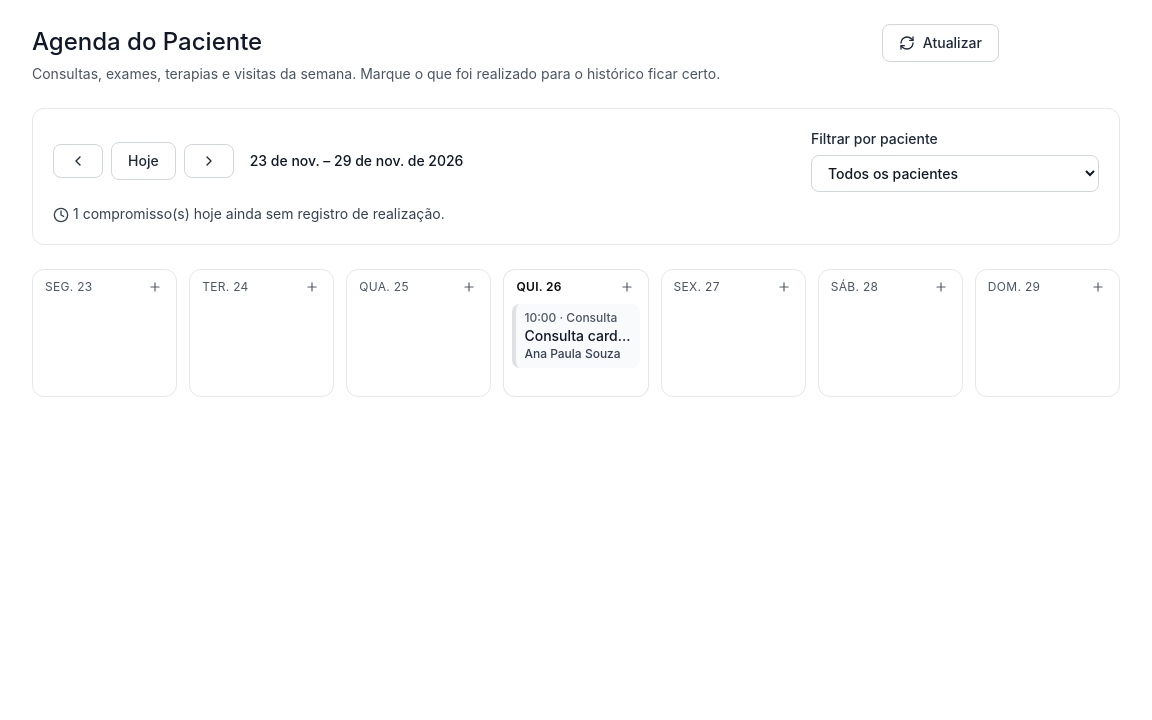
Agenda do paciente › cancelar um compromisso: fecha a janela, avisa e busca a agenda de novo
The image size is (1152, 720).
Step 1. Click the button "10:00 · Consulta Consulta cardiologia Ana Paula Souza" → (576, 336), box x1=512 y1=304 x2=640 y2=368
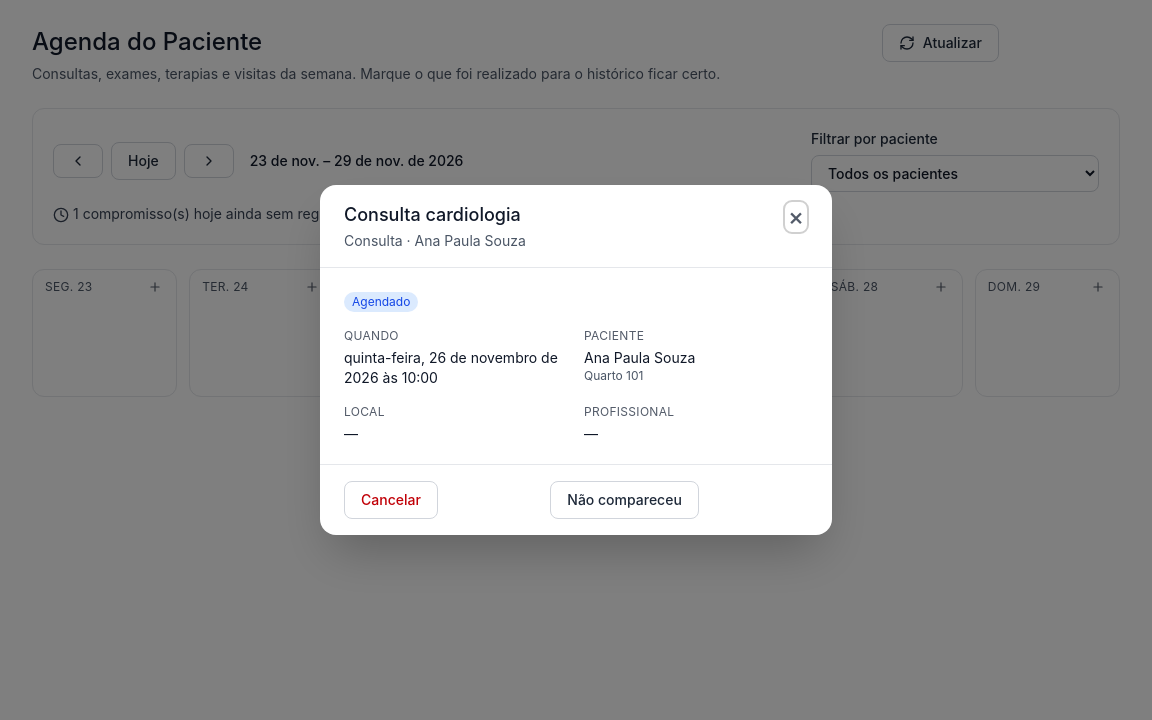
Step 2. Click the button "Cancelar" → (391, 500), box x1=344 y1=481 x2=438 y2=519
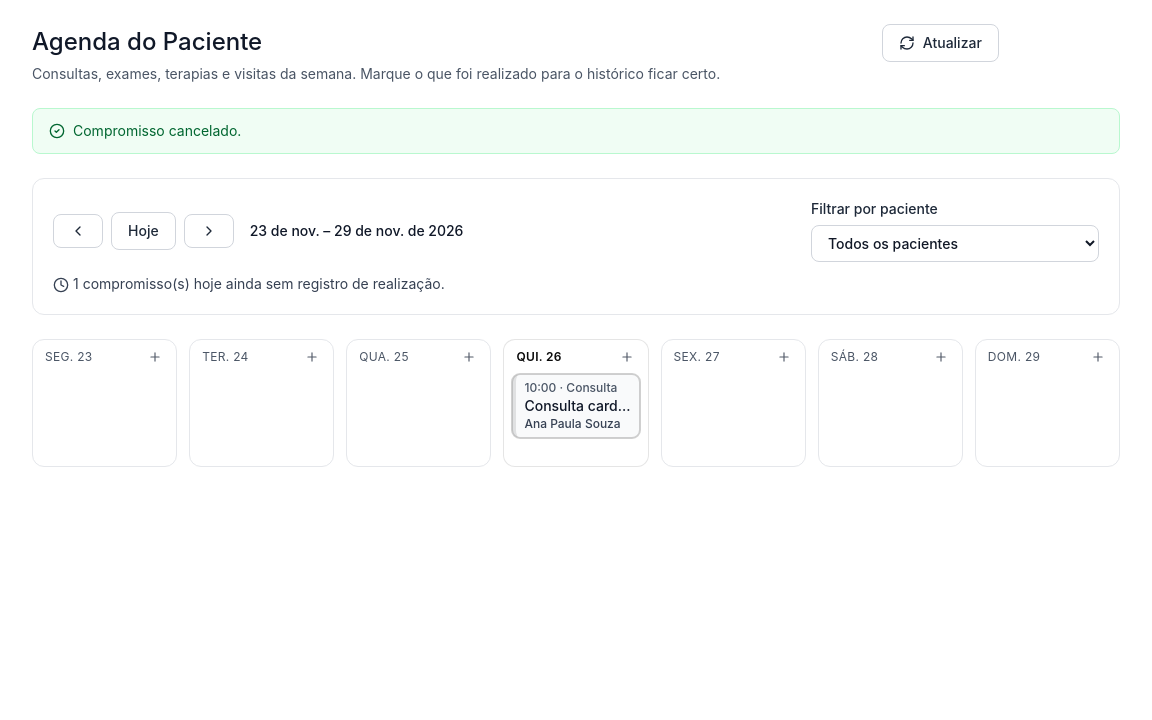
Now the text "Compromisso cancelado." is shown, box x1=73 y1=121 x2=241 y2=141
Now the dialog is gone
